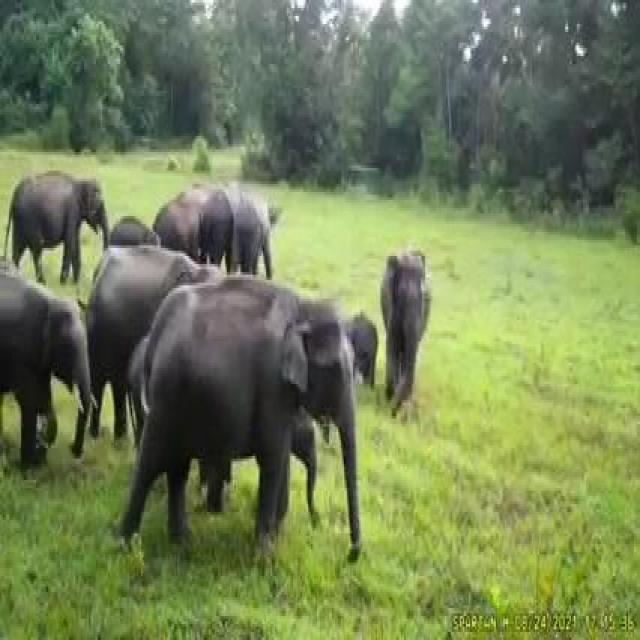Elephant: (147, 278, 360, 508), (0, 296, 101, 462), (9, 165, 112, 263), (93, 240, 180, 354), (378, 238, 432, 400), (197, 171, 232, 255), (240, 187, 275, 263)
